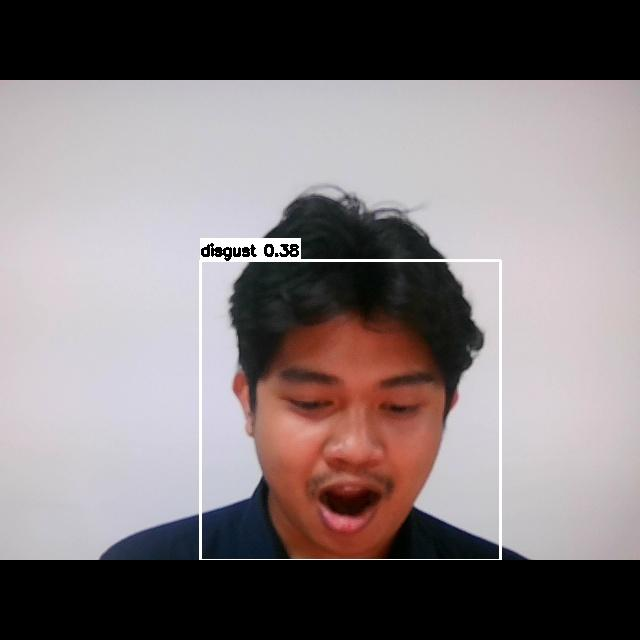Surprised: (266, 342, 456, 544)
